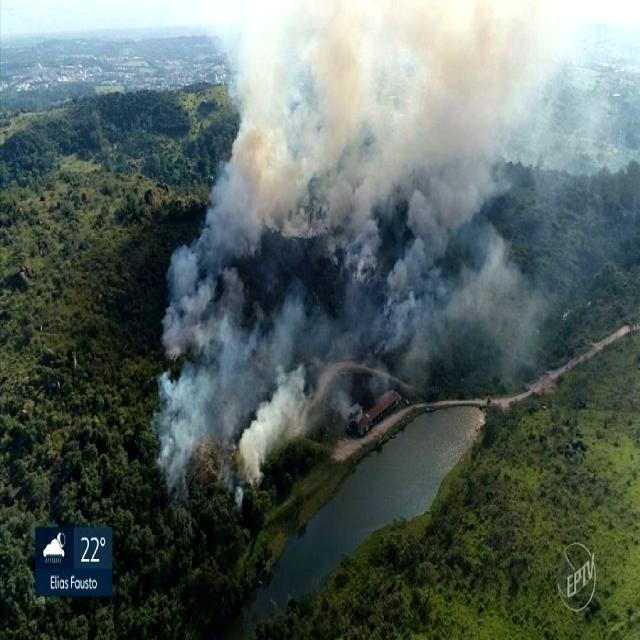Smoke: (148, 1, 578, 460)
